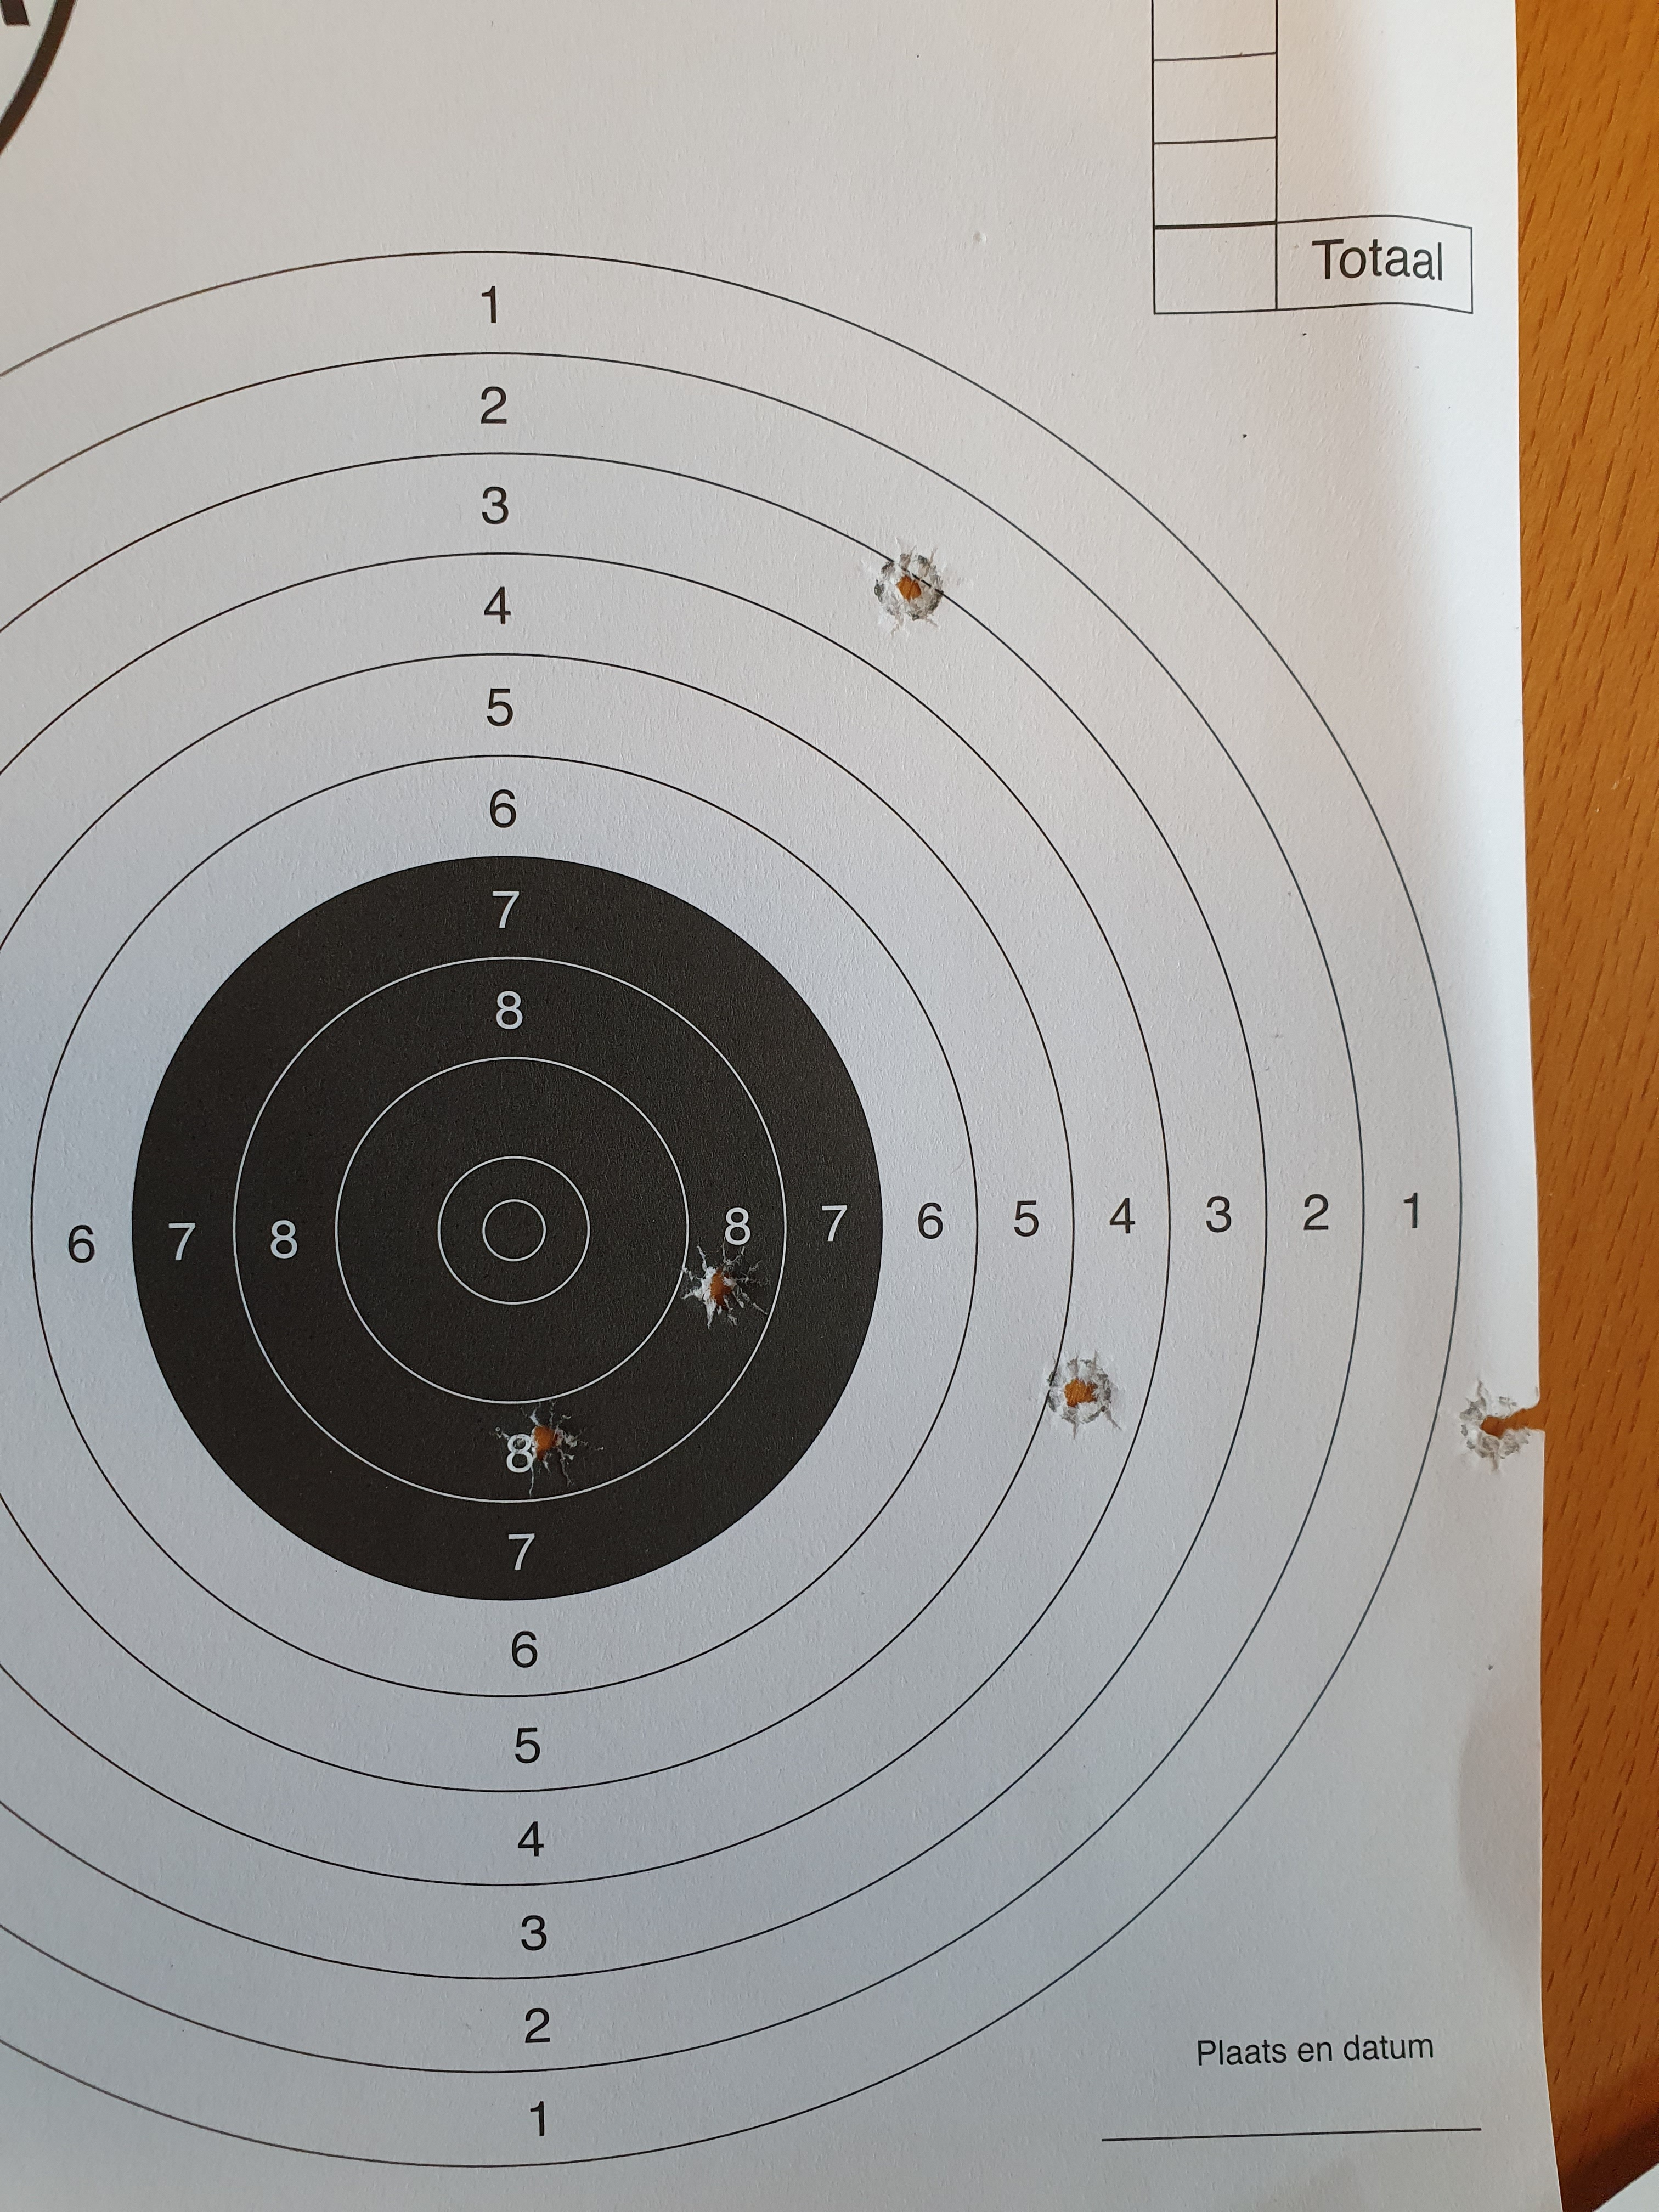center: (127, 853, 887, 1604)
out: (3, 249, 1466, 2168)
shot: (1453, 1372, 1542, 1480), (671, 1233, 765, 1327), (511, 1392, 601, 1489), (1030, 1348, 1121, 1440), (861, 543, 953, 632)
target: (436, 1157, 591, 1305)
